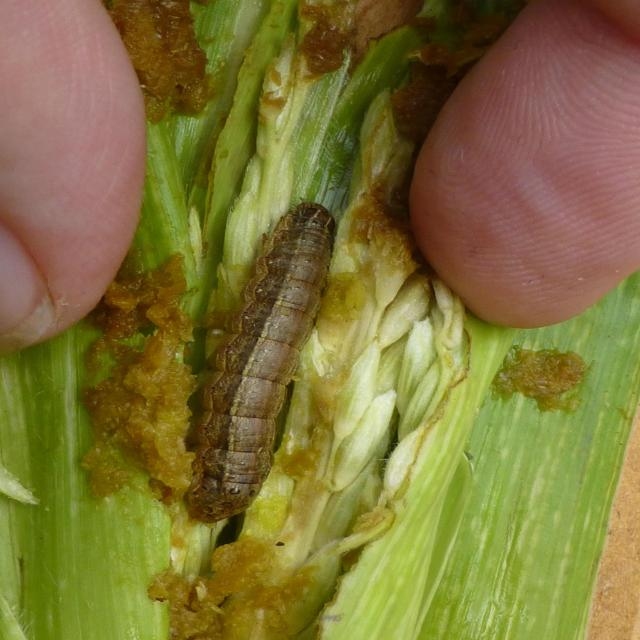army worm: (172, 204, 345, 531)
